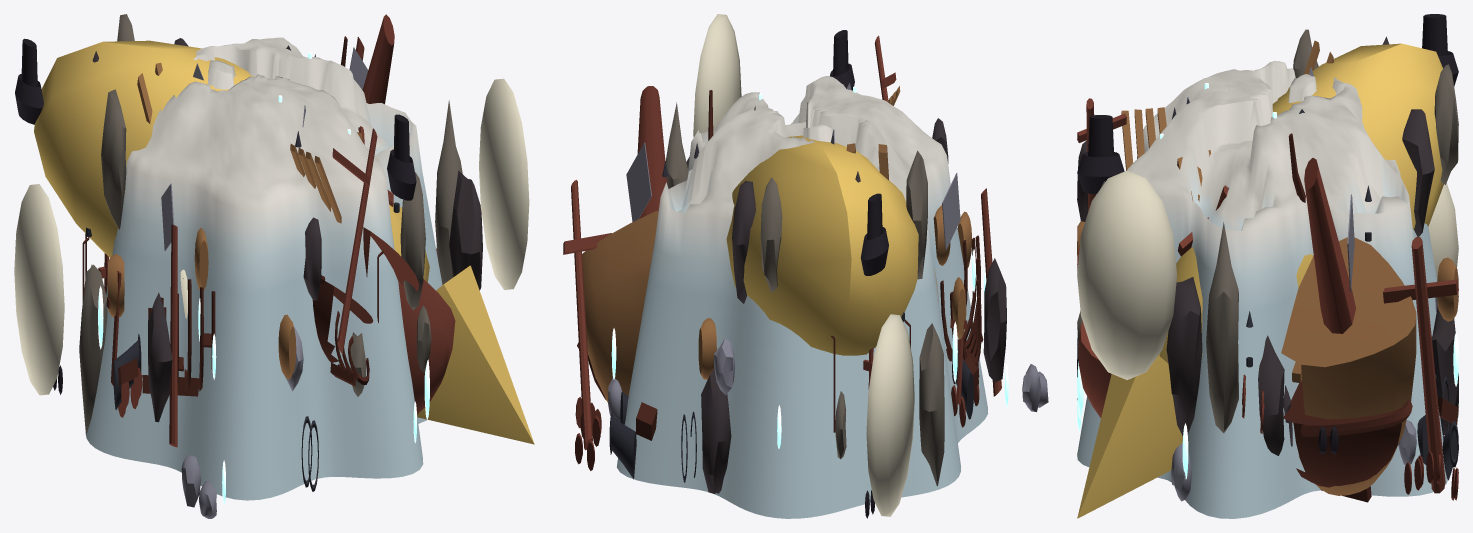
The model's file is ile-cimetiere-v4.glb.
3 views of the same model, side by side, from view 1: azimuth 30°, elevation 25°; view 2: azimuth 150°, elevation 25°; view 3: azimuth 270°, elevation 25° (orthographic). The views are drawn at different scales.
Parts seen in each view (by area): view 1: cimetiere_terrain, cimetiere_decor, cimetiere_feux; view 2: cimetiere_decor, cimetiere_terrain, cimetiere_feux; view 3: cimetiere_decor, cimetiere_terrain, cimetiere_feux.
Part boxes in pixels (left/top/right/bottom): cimetiere_terrain: left=85, top=37, right=442, bottom=500; cimetiere_decor: left=14, top=14, right=534, bottom=518; cimetiere_feux: left=98, top=52, right=429, bottom=505; cimetiere_decor: left=563, top=14, right=1048, bottom=518; cimetiere_terrain: left=616, top=76, right=988, bottom=518; cimetiere_feux: left=611, top=86, right=1008, bottom=448; cimetiere_decor: left=1077, top=14, right=1458, bottom=518; cimetiere_terrain: left=1077, top=61, right=1458, bottom=518; cimetiere_feux: left=1077, top=83, right=1458, bottom=479.
Bounding box in the file's own units: 2 × 2 × 2.
